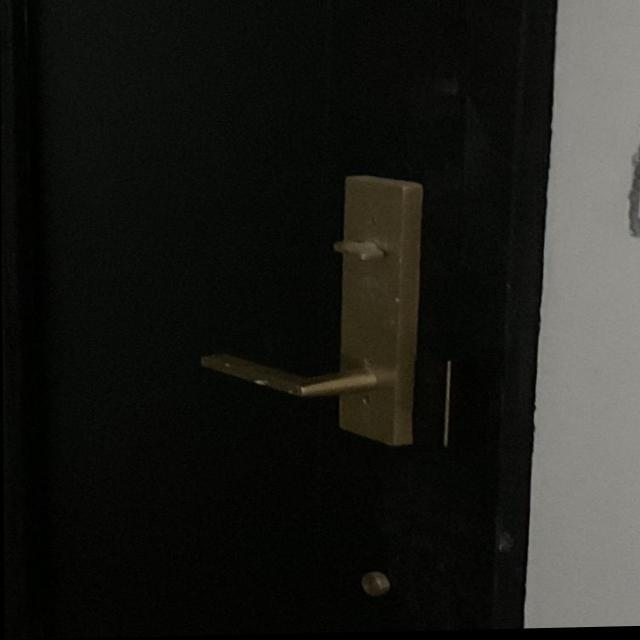door_handle: (180, 328, 457, 424)
